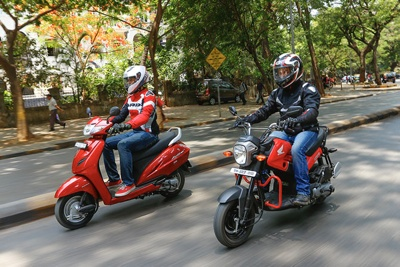helmet: (267, 49, 303, 91), (122, 62, 151, 97)
